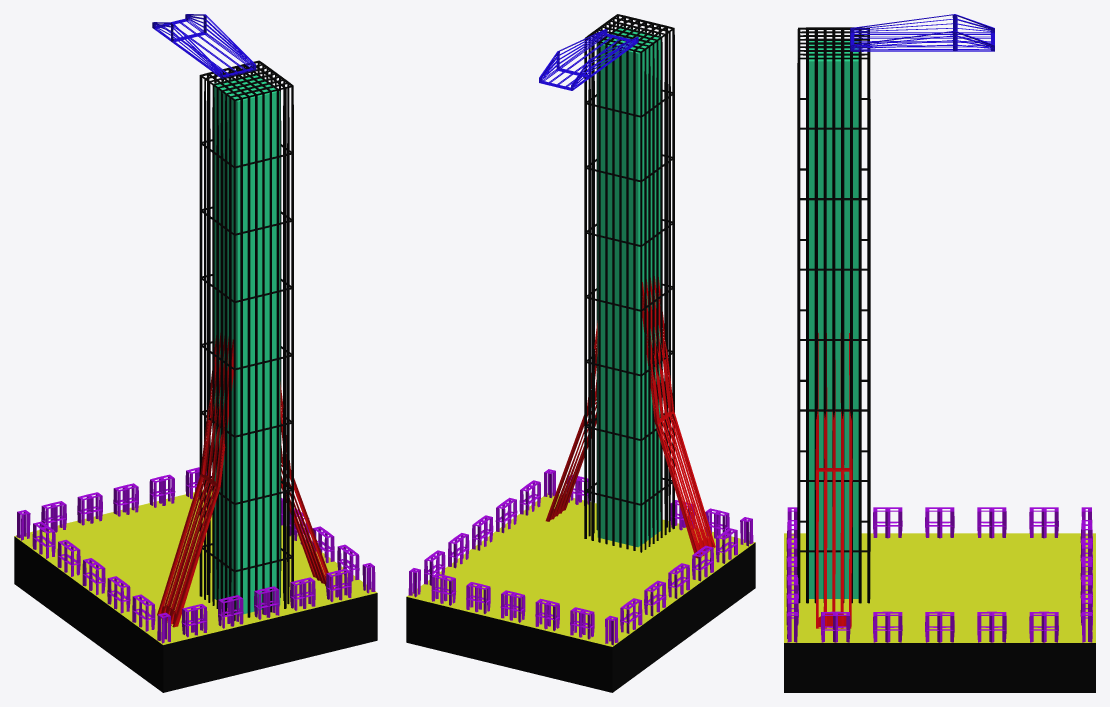
The model's file is Rocket Stand.fbx.
3 renders of one model, left to right at view 1: azimuth 30°, elevation 25°; view 2: azimuth 150°, elevation 25°; view 3: azimuth 270°, elevation 25°, orthographic. The views are drawn at different scales.
Parts seen in each view (by area): view 1: Rocket Stand, Steel Movable; view 2: Rocket Stand, Steel Movable; view 3: Rocket Stand, Steel Movable.
Part boxes in pixels (x1=…): Rocket Stand: x1=14, y1=60, x2=377, y2=692; Steel Movable: x1=152, y1=14, x2=256, y2=78; Rocket Stand: x1=406, y1=14, x2=755, y2=692; Steel Movable: x1=539, y1=29, x2=638, y2=90; Rocket Stand: x1=784, y1=27, x2=1095, y2=692; Steel Movable: x1=850, y1=14, x2=994, y2=51.
Bounding box in the file's own units: 358 × 948 × 431.
